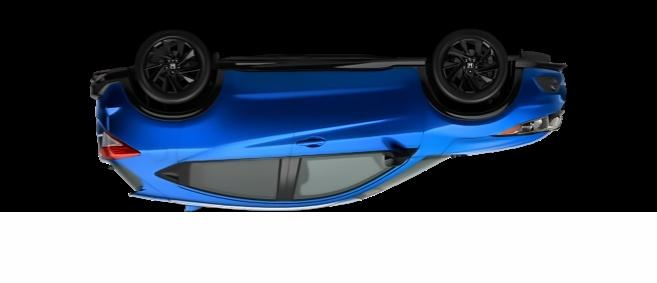Car hood: (442, 133, 544, 155)
Fender - -F-L-: (413, 88, 537, 156)
Fender - -R-L-: (126, 102, 228, 189)
Front bumper: (512, 46, 568, 115)
Headlight - -L-: (498, 105, 569, 137)
Passenger-s door - -R-L-: (165, 50, 292, 213)
Rear bumper: (85, 62, 139, 126)
Rear light - -L-: (97, 130, 142, 161)
Side bumper - -L-: (220, 50, 433, 98)
Side mirror - -L-: (269, 48, 431, 208), (376, 148, 418, 169)
